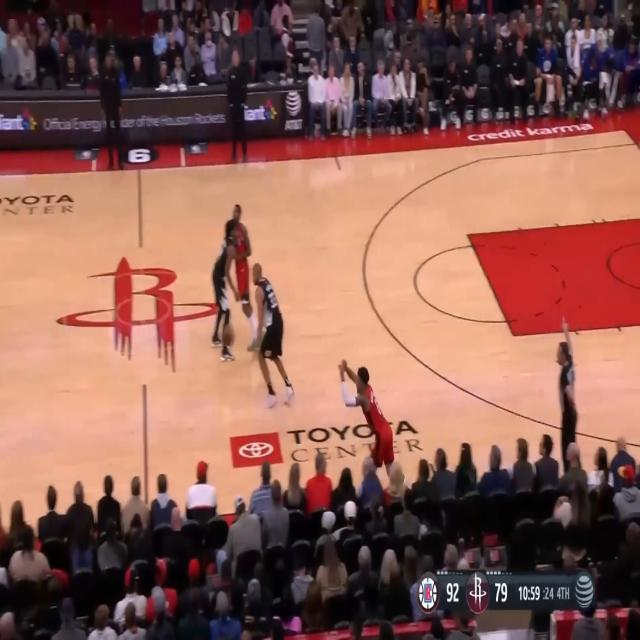Ball: (222, 325, 235, 348)
Overlay: (418, 570, 596, 613)
Player: (337, 358, 407, 514), (250, 263, 296, 408), (230, 203, 265, 351), (210, 218, 240, 363)
Ref: (554, 316, 579, 490)
Scoreboard: (418, 570, 572, 612)
